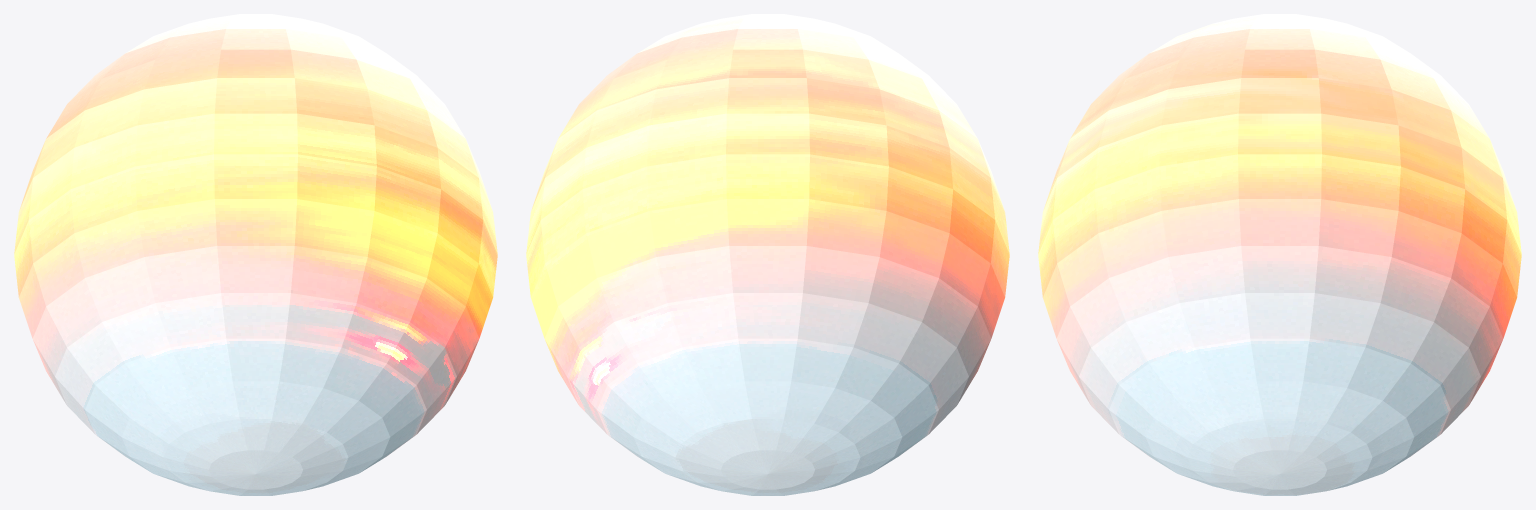
File: sunset.glb
3 views of the same model, side by side, from view 1: azimuth 30°, elevation 25°; view 2: azimuth 150°, elevation 25°; view 3: azimuth 270°, elevation 25° (orthographic).
Parts seen in each view (by area): view 1: SunsetBackground; view 2: SunsetBackground; view 3: SunsetBackground.
Boxes of the visible parts, x1=… form: SunsetBackground: x1=14, y1=14, x2=497, y2=495; SunsetBackground: x1=526, y1=14, x2=1009, y2=495; SunsetBackground: x1=1038, y1=14, x2=1521, y2=495.
Bounding box in the file's own units: 39.39 × 40 × 40.
